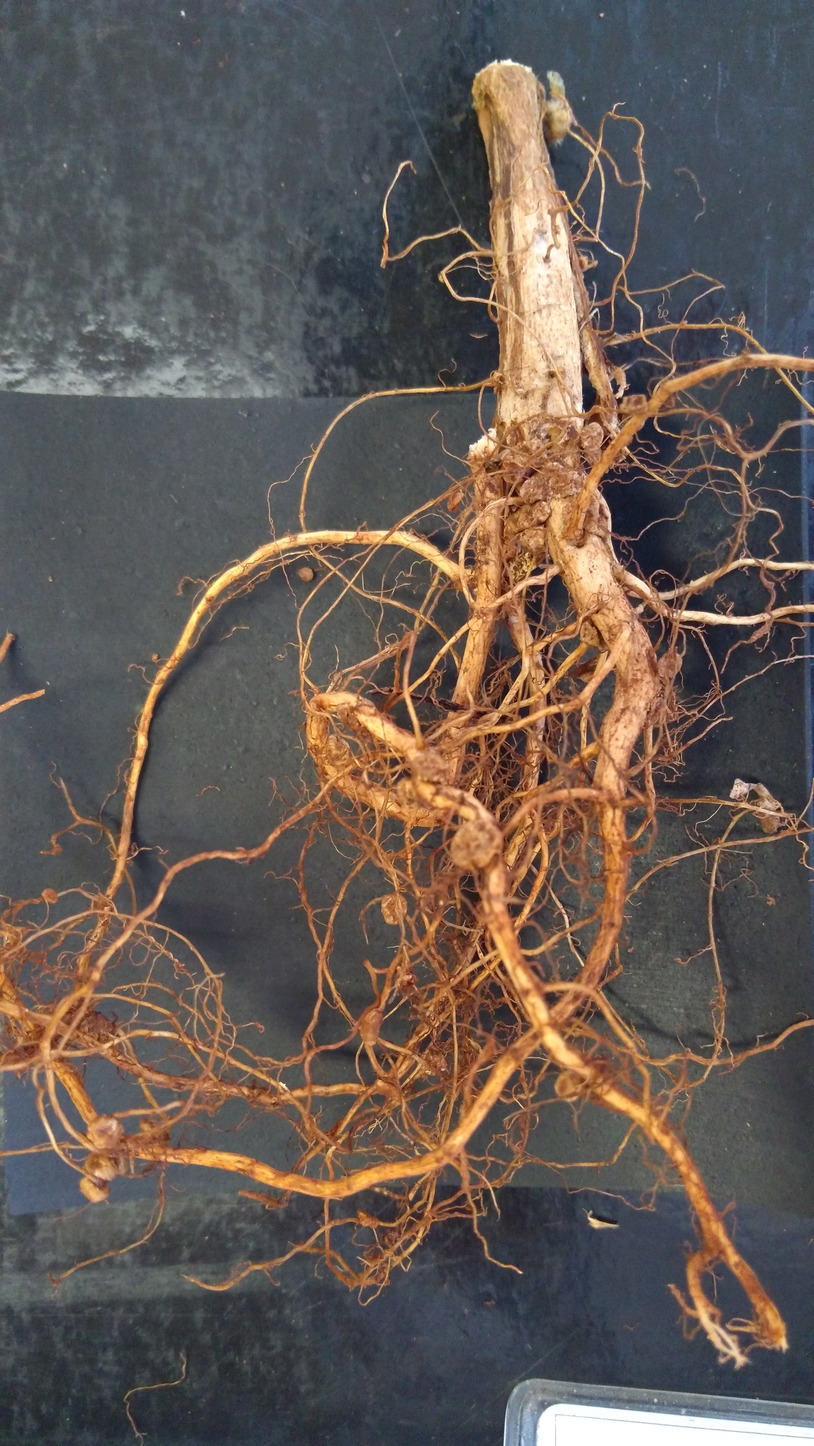nodule: (516, 455, 591, 507), (446, 814, 507, 877), (79, 1103, 127, 1157), (498, 436, 547, 484), (374, 886, 415, 930), (355, 1003, 385, 1056), (408, 750, 452, 783), (73, 1173, 115, 1207), (552, 1068, 588, 1106), (501, 504, 543, 536), (578, 421, 606, 466), (516, 524, 552, 559), (79, 1010, 115, 1043), (83, 1152, 118, 1181), (395, 777, 423, 813), (337, 707, 368, 738), (138, 1117, 170, 1147), (324, 733, 351, 768), (416, 1050, 448, 1077), (656, 652, 684, 678), (577, 621, 601, 648), (759, 808, 783, 835), (619, 392, 648, 414), (531, 500, 552, 524), (356, 1207, 380, 1228), (113, 1149, 130, 1175), (296, 565, 317, 584), (446, 491, 465, 511), (41, 887, 60, 904), (577, 255, 590, 272)
